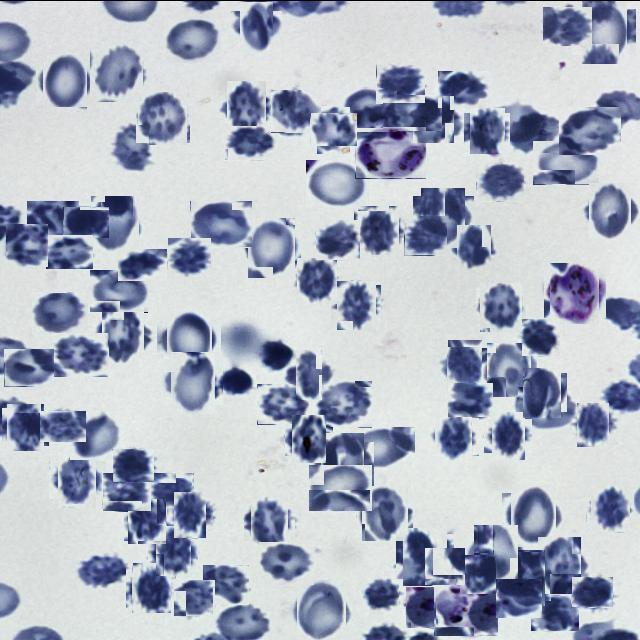red blood cell: (294, 582, 349, 638), (576, 4, 632, 58), (308, 464, 372, 511), (559, 106, 621, 154), (92, 44, 146, 99), (306, 159, 369, 206), (506, 488, 560, 542), (244, 220, 298, 274), (162, 312, 216, 366), (316, 436, 370, 490), (190, 200, 252, 247), (534, 140, 600, 184), (166, 355, 220, 408), (88, 198, 142, 250), (349, 426, 415, 468), (417, 191, 470, 243), (137, 92, 189, 144), (315, 380, 372, 427), (40, 56, 91, 108), (496, 552, 548, 602), (164, 18, 221, 63), (534, 540, 585, 590), (400, 530, 450, 581), (70, 411, 123, 459), (89, 269, 148, 312), (518, 386, 577, 429), (31, 290, 88, 334), (98, 308, 148, 358), (360, 488, 410, 538), (586, 185, 636, 235), (471, 527, 521, 577), (27, 200, 79, 248), (258, 541, 314, 585), (54, 332, 110, 376), (485, 344, 534, 394), (405, 586, 463, 628), (342, 86, 397, 130), (507, 109, 561, 152), (54, 455, 101, 503), (272, 88, 320, 134), (223, 84, 270, 130), (257, 383, 309, 424), (383, 94, 442, 130), (478, 284, 524, 330), (356, 206, 402, 252), (128, 564, 174, 610), (247, 498, 292, 544), (334, 282, 379, 326), (520, 369, 564, 414), (76, 551, 128, 589), (442, 342, 486, 386), (432, 414, 476, 458), (296, 258, 340, 302), (588, 486, 632, 530), (412, 96, 456, 140), (438, 70, 490, 107), (543, 6, 592, 45), (102, 472, 151, 511), (4, 348, 54, 386), (376, 64, 425, 102), (224, 125, 277, 160), (235, 5, 278, 48), (152, 528, 194, 572), (203, 564, 249, 604), (476, 163, 524, 201), (6, 223, 48, 266), (496, 578, 542, 617), (288, 416, 330, 458), (4, 405, 46, 447), (126, 500, 168, 542), (316, 219, 360, 259), (111, 124, 149, 170), (168, 237, 211, 277), (404, 215, 447, 255), (467, 109, 508, 150), (531, 595, 579, 630), (488, 414, 528, 456), (148, 472, 194, 508), (313, 108, 354, 148), (454, 227, 494, 267), (170, 494, 210, 534), (46, 234, 93, 268), (118, 248, 167, 280), (173, 579, 215, 616), (448, 382, 493, 416), (426, 546, 464, 586), (574, 404, 612, 443), (63, 206, 109, 238), (290, 354, 328, 392), (458, 554, 496, 592), (112, 448, 154, 482), (40, 410, 86, 441), (522, 318, 560, 355), (571, 576, 613, 607), (363, 576, 399, 611)
trophozoite: (355, 126, 426, 178), (433, 583, 498, 636), (547, 264, 603, 320)
